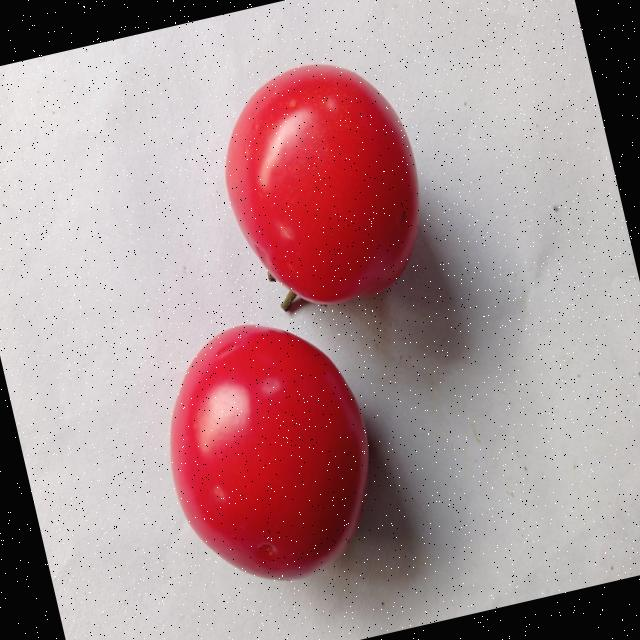Ripe: (138, 300, 402, 604), (199, 41, 446, 327)
